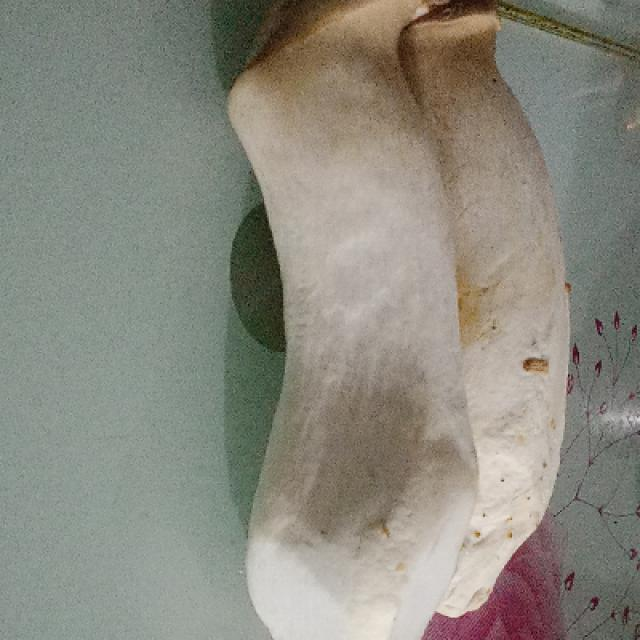Pleurotus eryngii: (229, 0, 572, 640)
